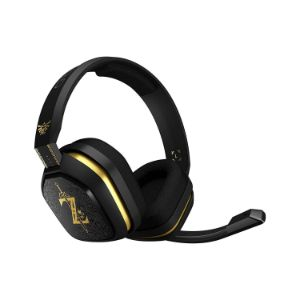headset: (23, 48, 272, 257)
